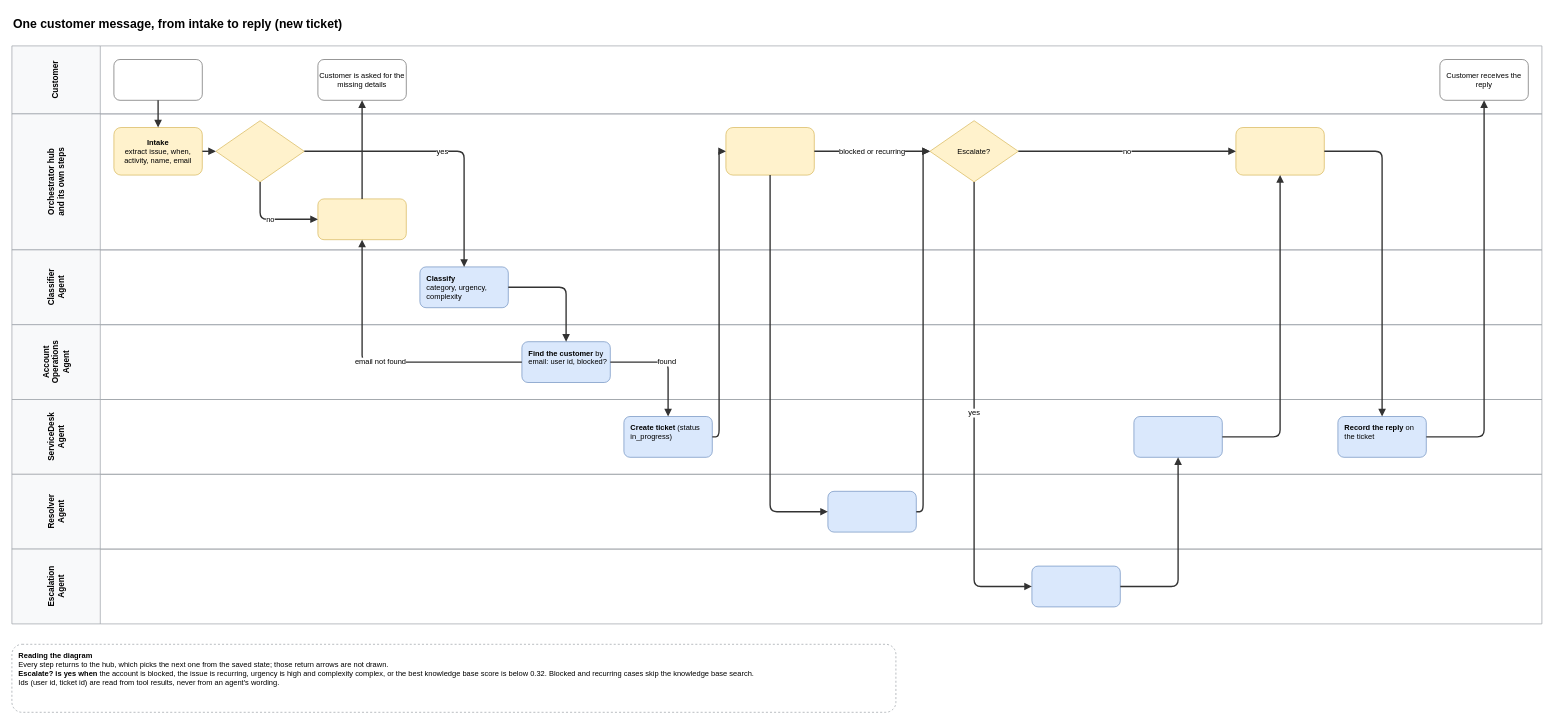
The diagram is 1554 pixels wide and 724 high, and some of its shapes have lost their labels. The shapes that lost their labels are listed below. From the top down, each one's centre as x and y in pixels, then its label:
point 157,79: Customer sends a message
point 259,151: All 4 answers given?
point 769,151: Recall memory past tickets, preferences, earlier fixes
point 1279,151: Respond offer the fix and ask if it worked, or hand-off message
point 361,219: Ask only for what is missing
point 1177,436: Set status escalated
point 871,511: Search knowledge base , answer from articles, score
point 1075,586: Notify a human (escalate_to_human, once)
